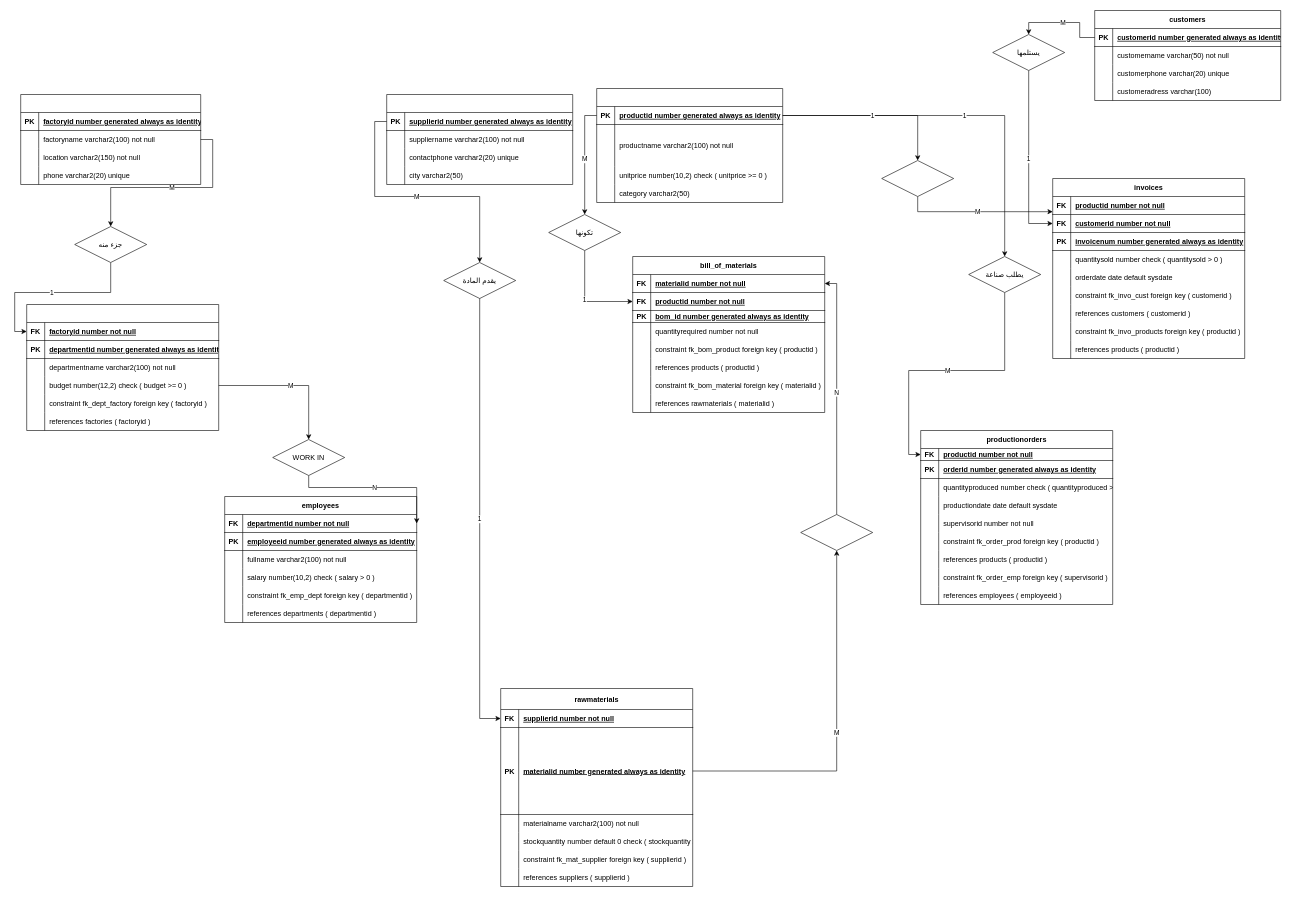
This 1294x897 diagram has some shape labels left out. Each missing label, with the box of its shape:
departments: (26, 304, 219, 430)
factories: (20, 94, 201, 184)
products: (596, 88, 783, 202)
suppliers: (386, 94, 573, 184)
تلزم لانشاءها: (800, 514, 873, 550)
يطلب: (881, 160, 954, 196)
